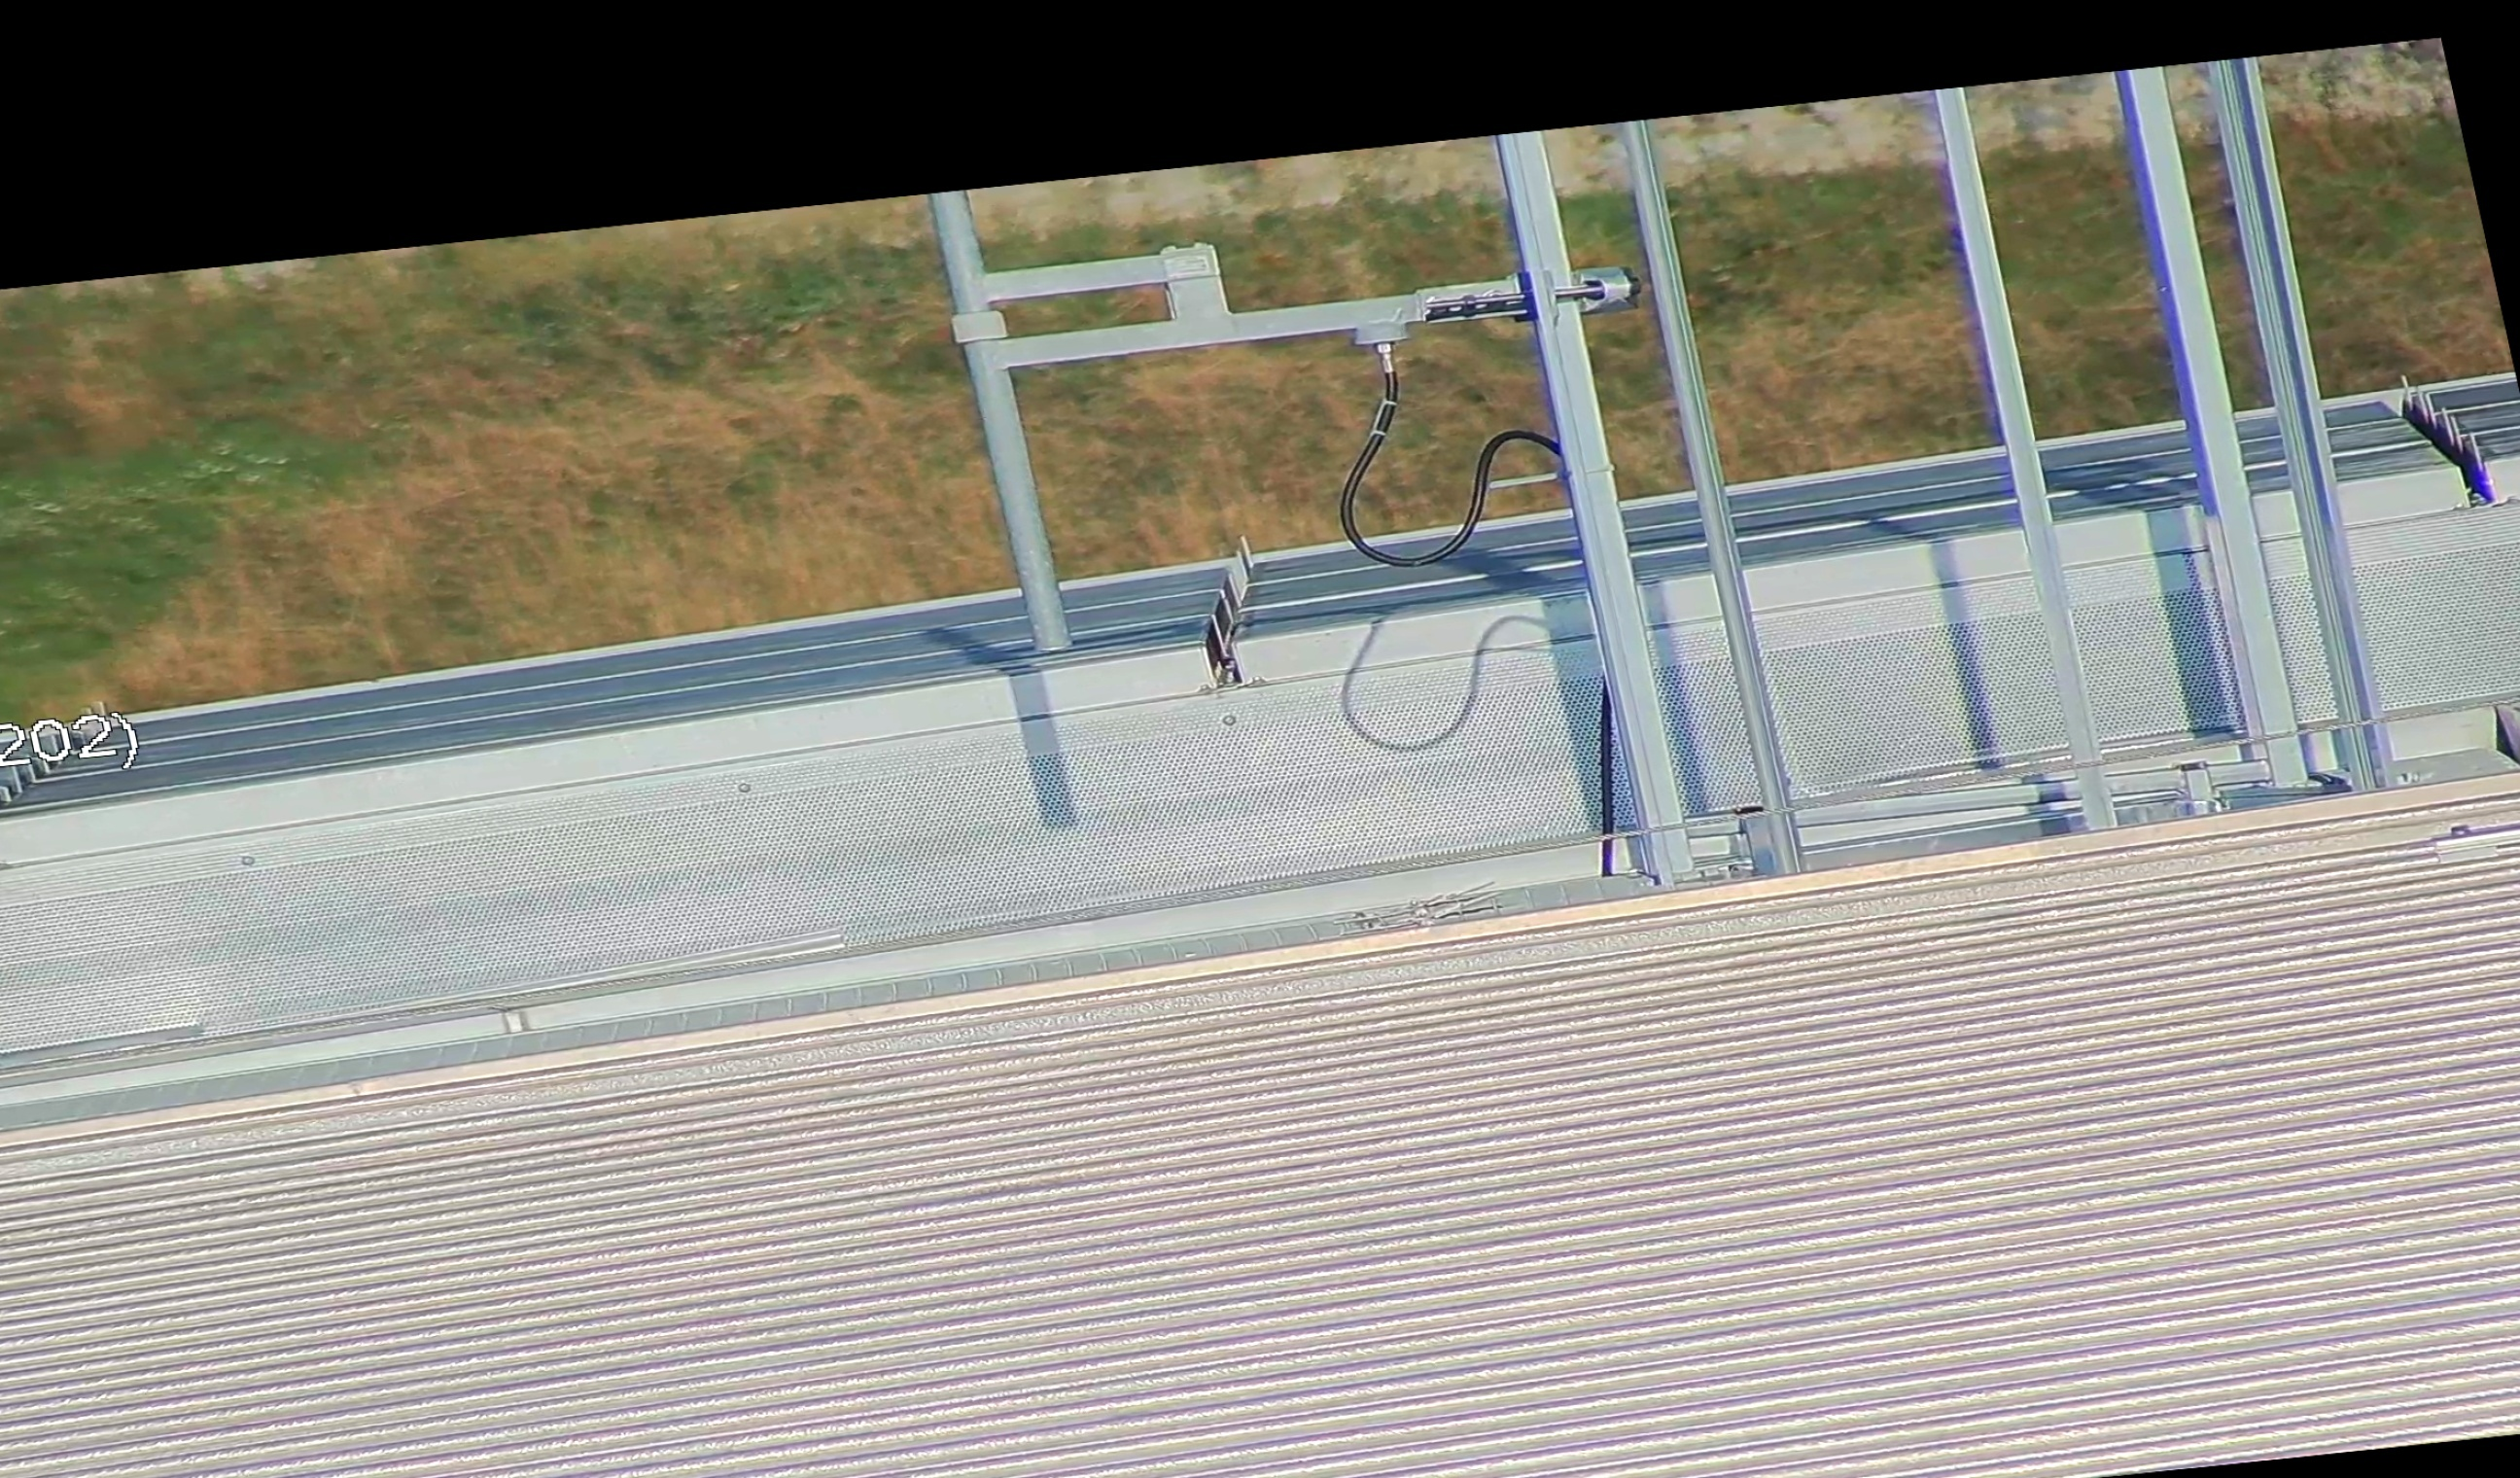Other: (2369, 357, 2520, 521)
